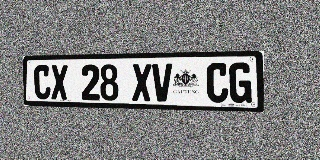2: (82, 64, 100, 100)
8: (100, 64, 119, 101)
C: (207, 63, 228, 103), (34, 65, 51, 99)
G: (229, 62, 252, 103)
V: (152, 63, 172, 102)
X: (132, 64, 152, 101), (51, 65, 68, 100)
